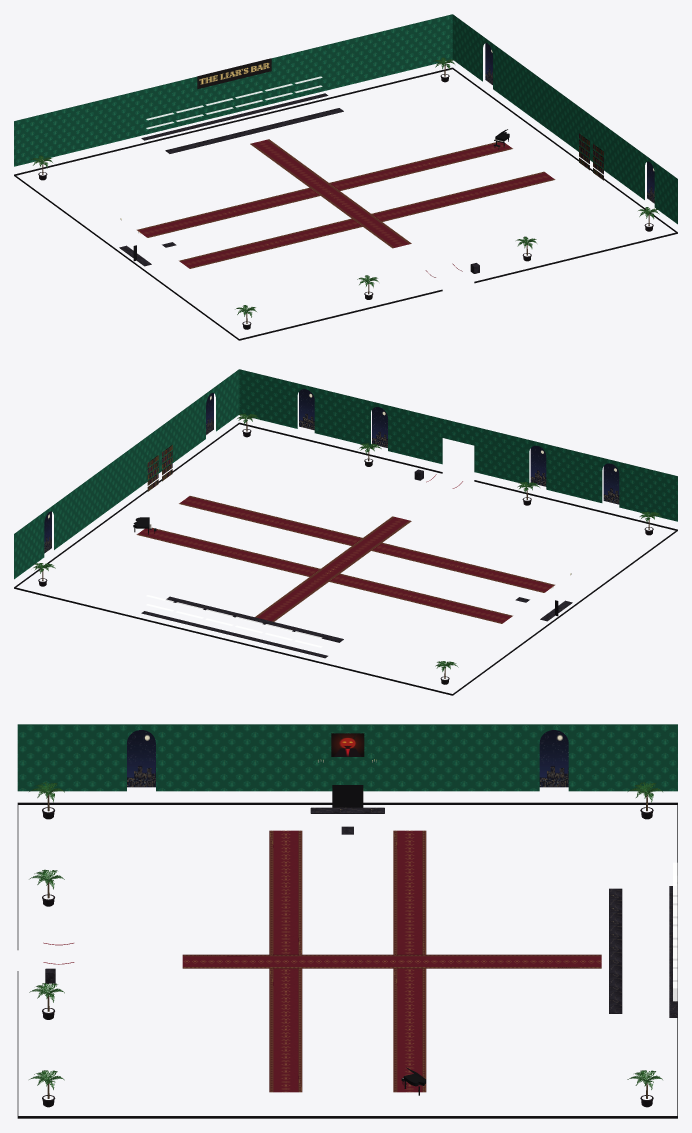
The model's file is lb4_lounge_p5.glb.
The picture shows the model from 3 angles, top to bottom: view 1: azimuth 30°, elevation 25°; view 2: azimuth 150°, elevation 25°; view 3: azimuth 270°, elevation 25°; orthographic projection. The views are drawn at different scales.
Parts seen in each view (by area): view 1: lb4_lounge_p5; view 2: lb4_lounge_p5; view 3: lb4_lounge_p5.
Boxes of the visible parts, bbox=[...] form: lb4_lounge_p5: bbox=[14, 14, 677, 340]; lb4_lounge_p5: bbox=[14, 369, 677, 695]; lb4_lounge_p5: bbox=[17, 724, 677, 1118].
Bounding box in the file's own units: 72.7 × 8.8 × 64.35.
Materials: 17 (9 with a texture image).
